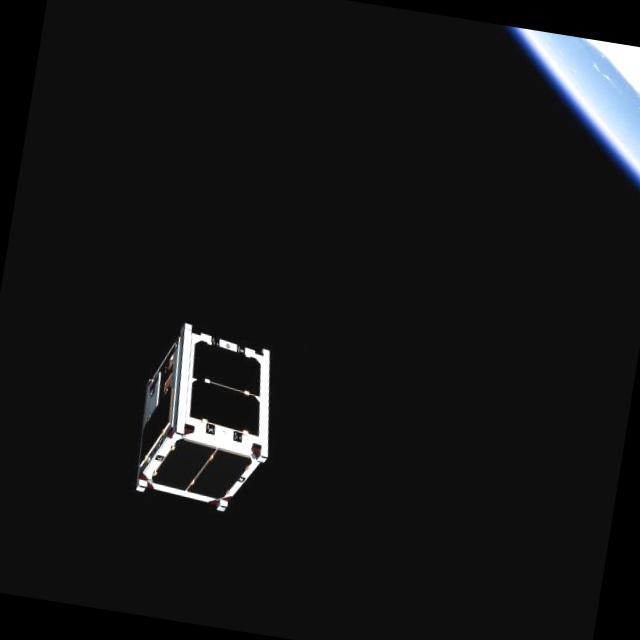medium_debris: (119, 310, 297, 529)
